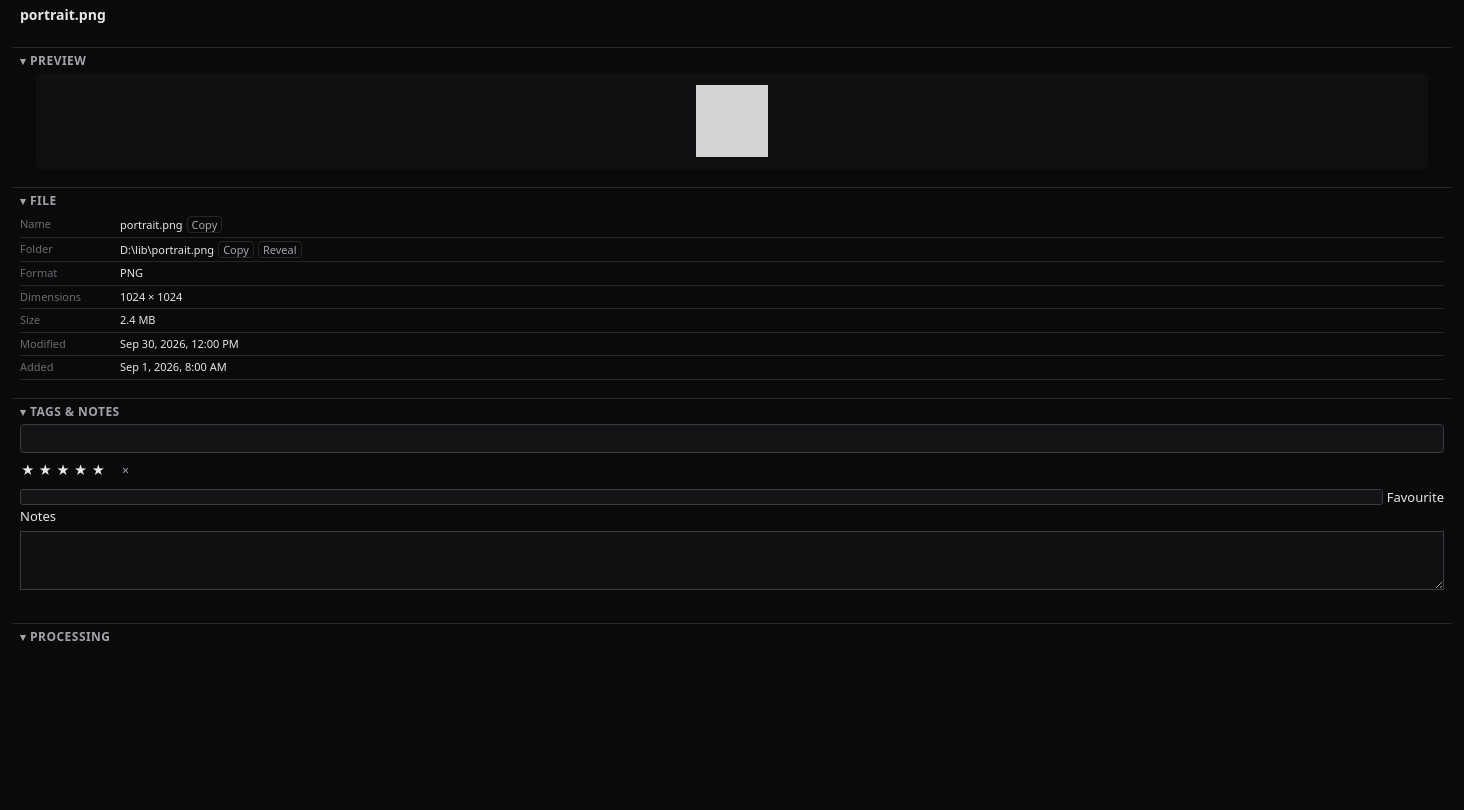
Test: INS-02 — section order › gives every section a heading with a toggle that reports its state
Step 1. Click the button "▾ File" → coordinates (23, 200), box [12, 188, 1452, 213]
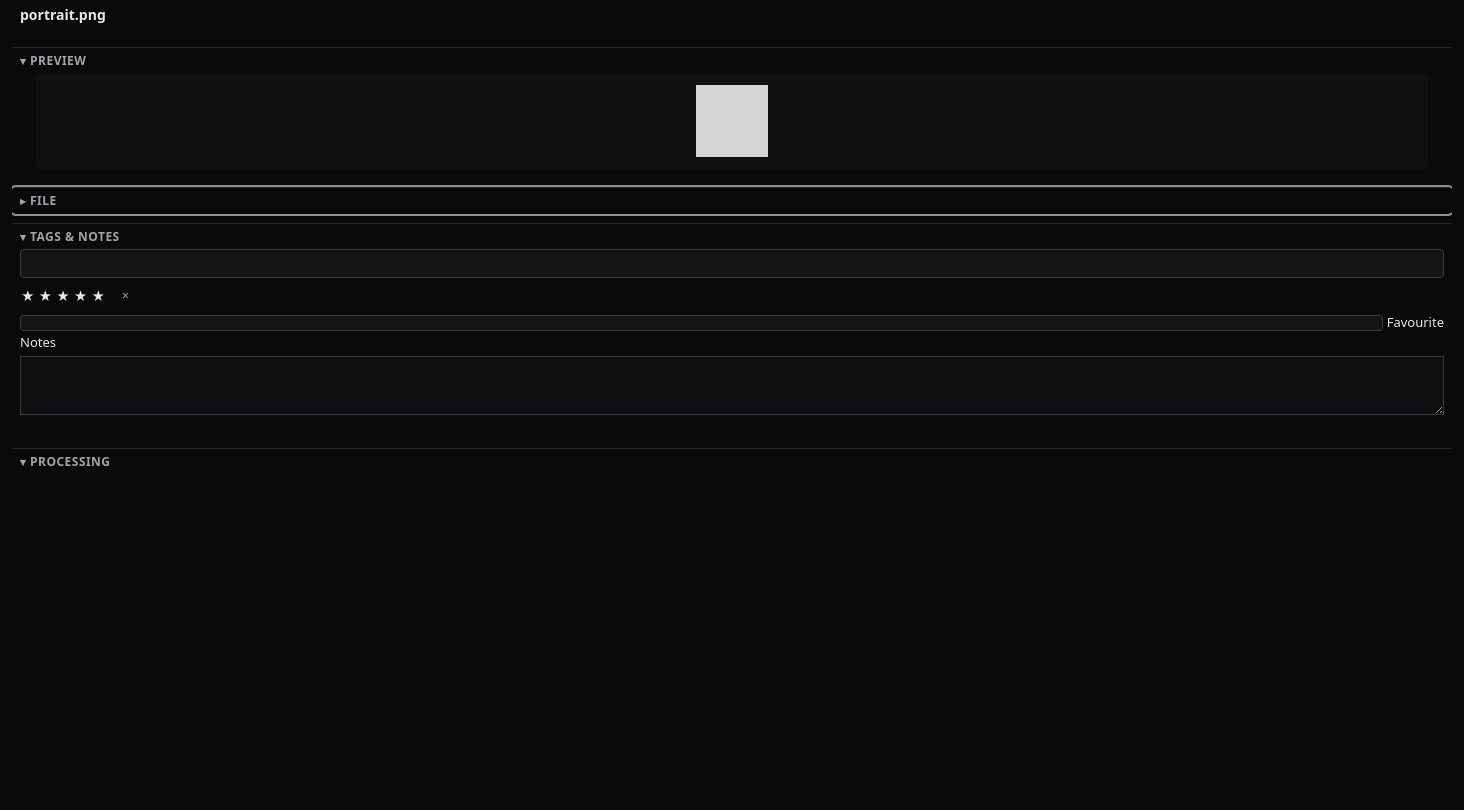
Expected: the button "▸ File" is collapsed, [12, 188, 1452, 213]
Expected: the text "Dimensions" is gone
